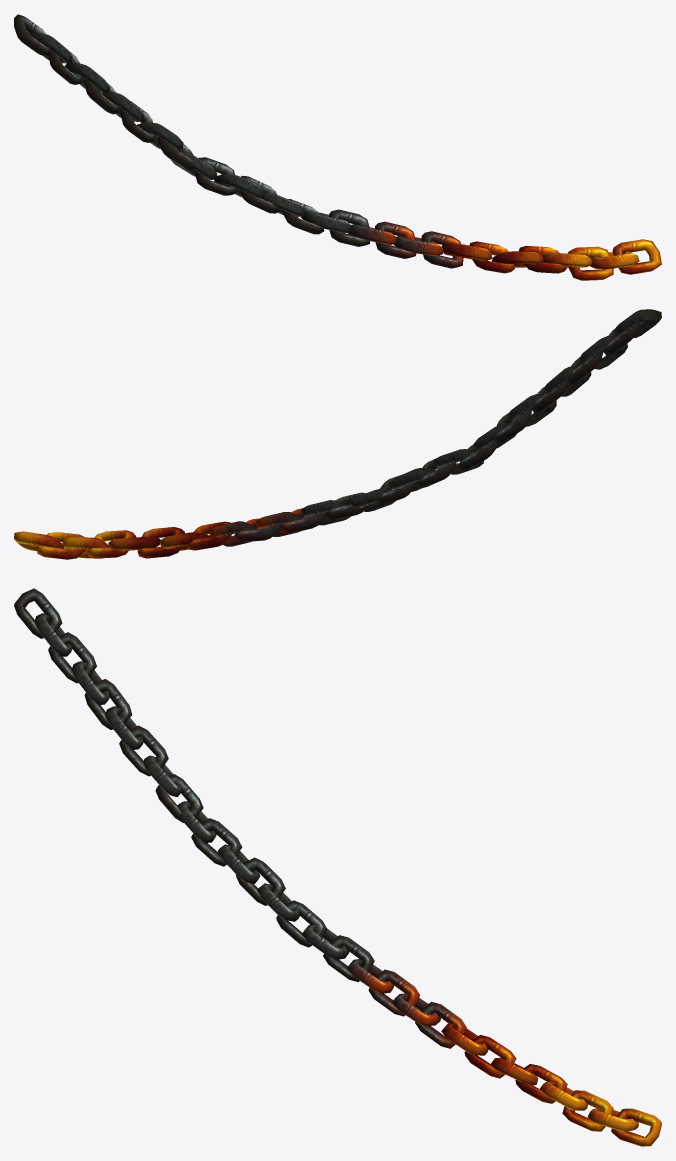
Rendered from S2_Build_XSC118.FBX.
3 renders of one model, top to bottom at view 1: azimuth 30°, elevation 25°; view 2: azimuth 150°, elevation 25°; view 3: azimuth 330°, elevation 25°, orthographic.
Visible parts, largest first — view 1: S2_Build_XSC118; view 2: S2_Build_XSC118; view 3: S2_Build_XSC118.
Boxes of the visible parts, bbox=[...] form: S2_Build_XSC118: bbox=[14, 14, 661, 280]; S2_Build_XSC118: bbox=[14, 309, 661, 559]; S2_Build_XSC118: bbox=[14, 588, 661, 1146].
Size of the model in its own units: 13912 by 8251 by 791.
